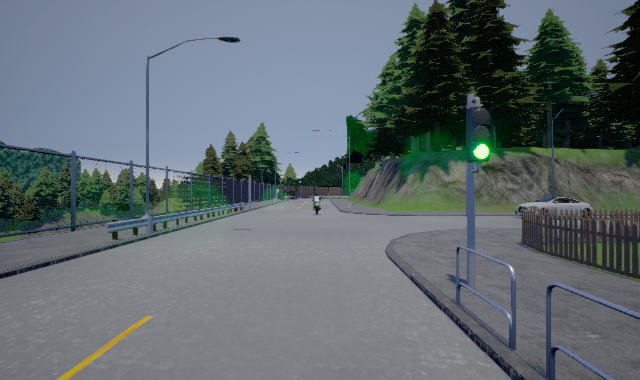motobike: (313, 192, 323, 217)
traffic_light: (466, 97, 492, 174)
vehicle: (515, 197, 594, 218)
